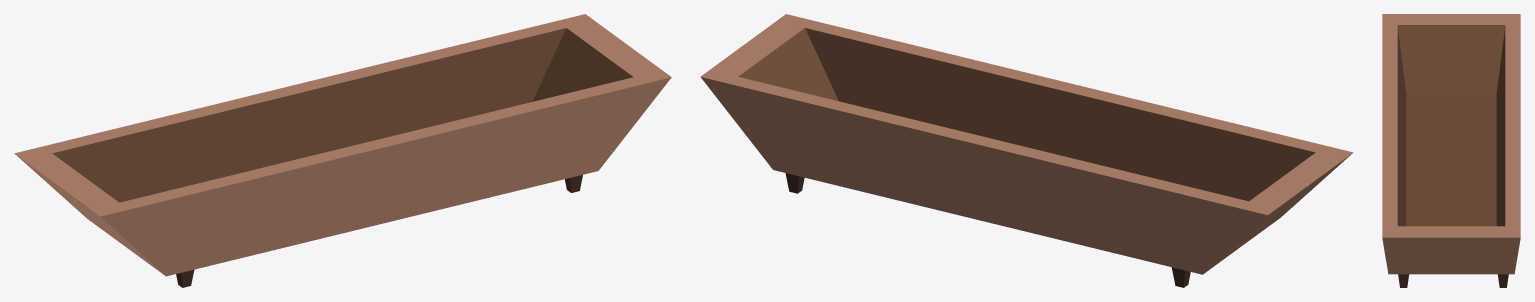
Rendered from drinking_trough_empty.glb.
3 renders of one model, left to right at view 1: azimuth 30°, elevation 25°; view 2: azimuth 150°, elevation 25°; view 3: azimuth 270°, elevation 25°, orthographic. The views are drawn at different scales.
Parts seen in each view (by area): view 1: drinking_trough_empty; view 2: drinking_trough_empty; view 3: drinking_trough_empty.
Boxes of the visible parts, x1=… form: drinking_trough_empty: x1=14, y1=14, x2=671, y2=287; drinking_trough_empty: x1=700, y1=14, x2=1353, y2=287; drinking_trough_empty: x1=1382, y1=14, x2=1520, y2=287.
Bounding box in the file's own units: 9.05 × 1.55 × 2.37.
Materials: 1 (1 with a texture image).
